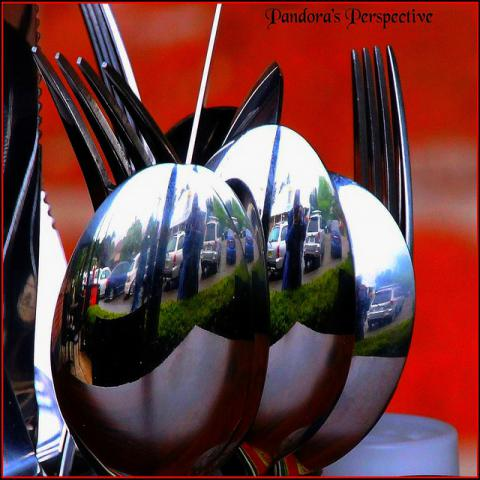car: (266, 222, 322, 277), (125, 248, 150, 300), (302, 215, 326, 268), (370, 285, 405, 318), (164, 231, 184, 286), (105, 261, 131, 300), (96, 267, 111, 297), (226, 228, 236, 258)
